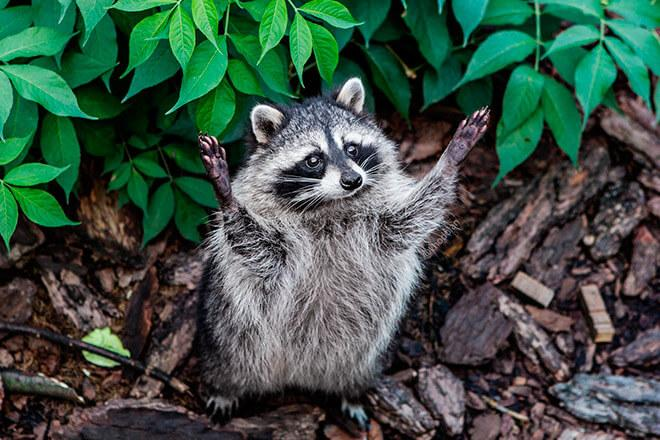raccoon: (190, 71, 487, 429)
